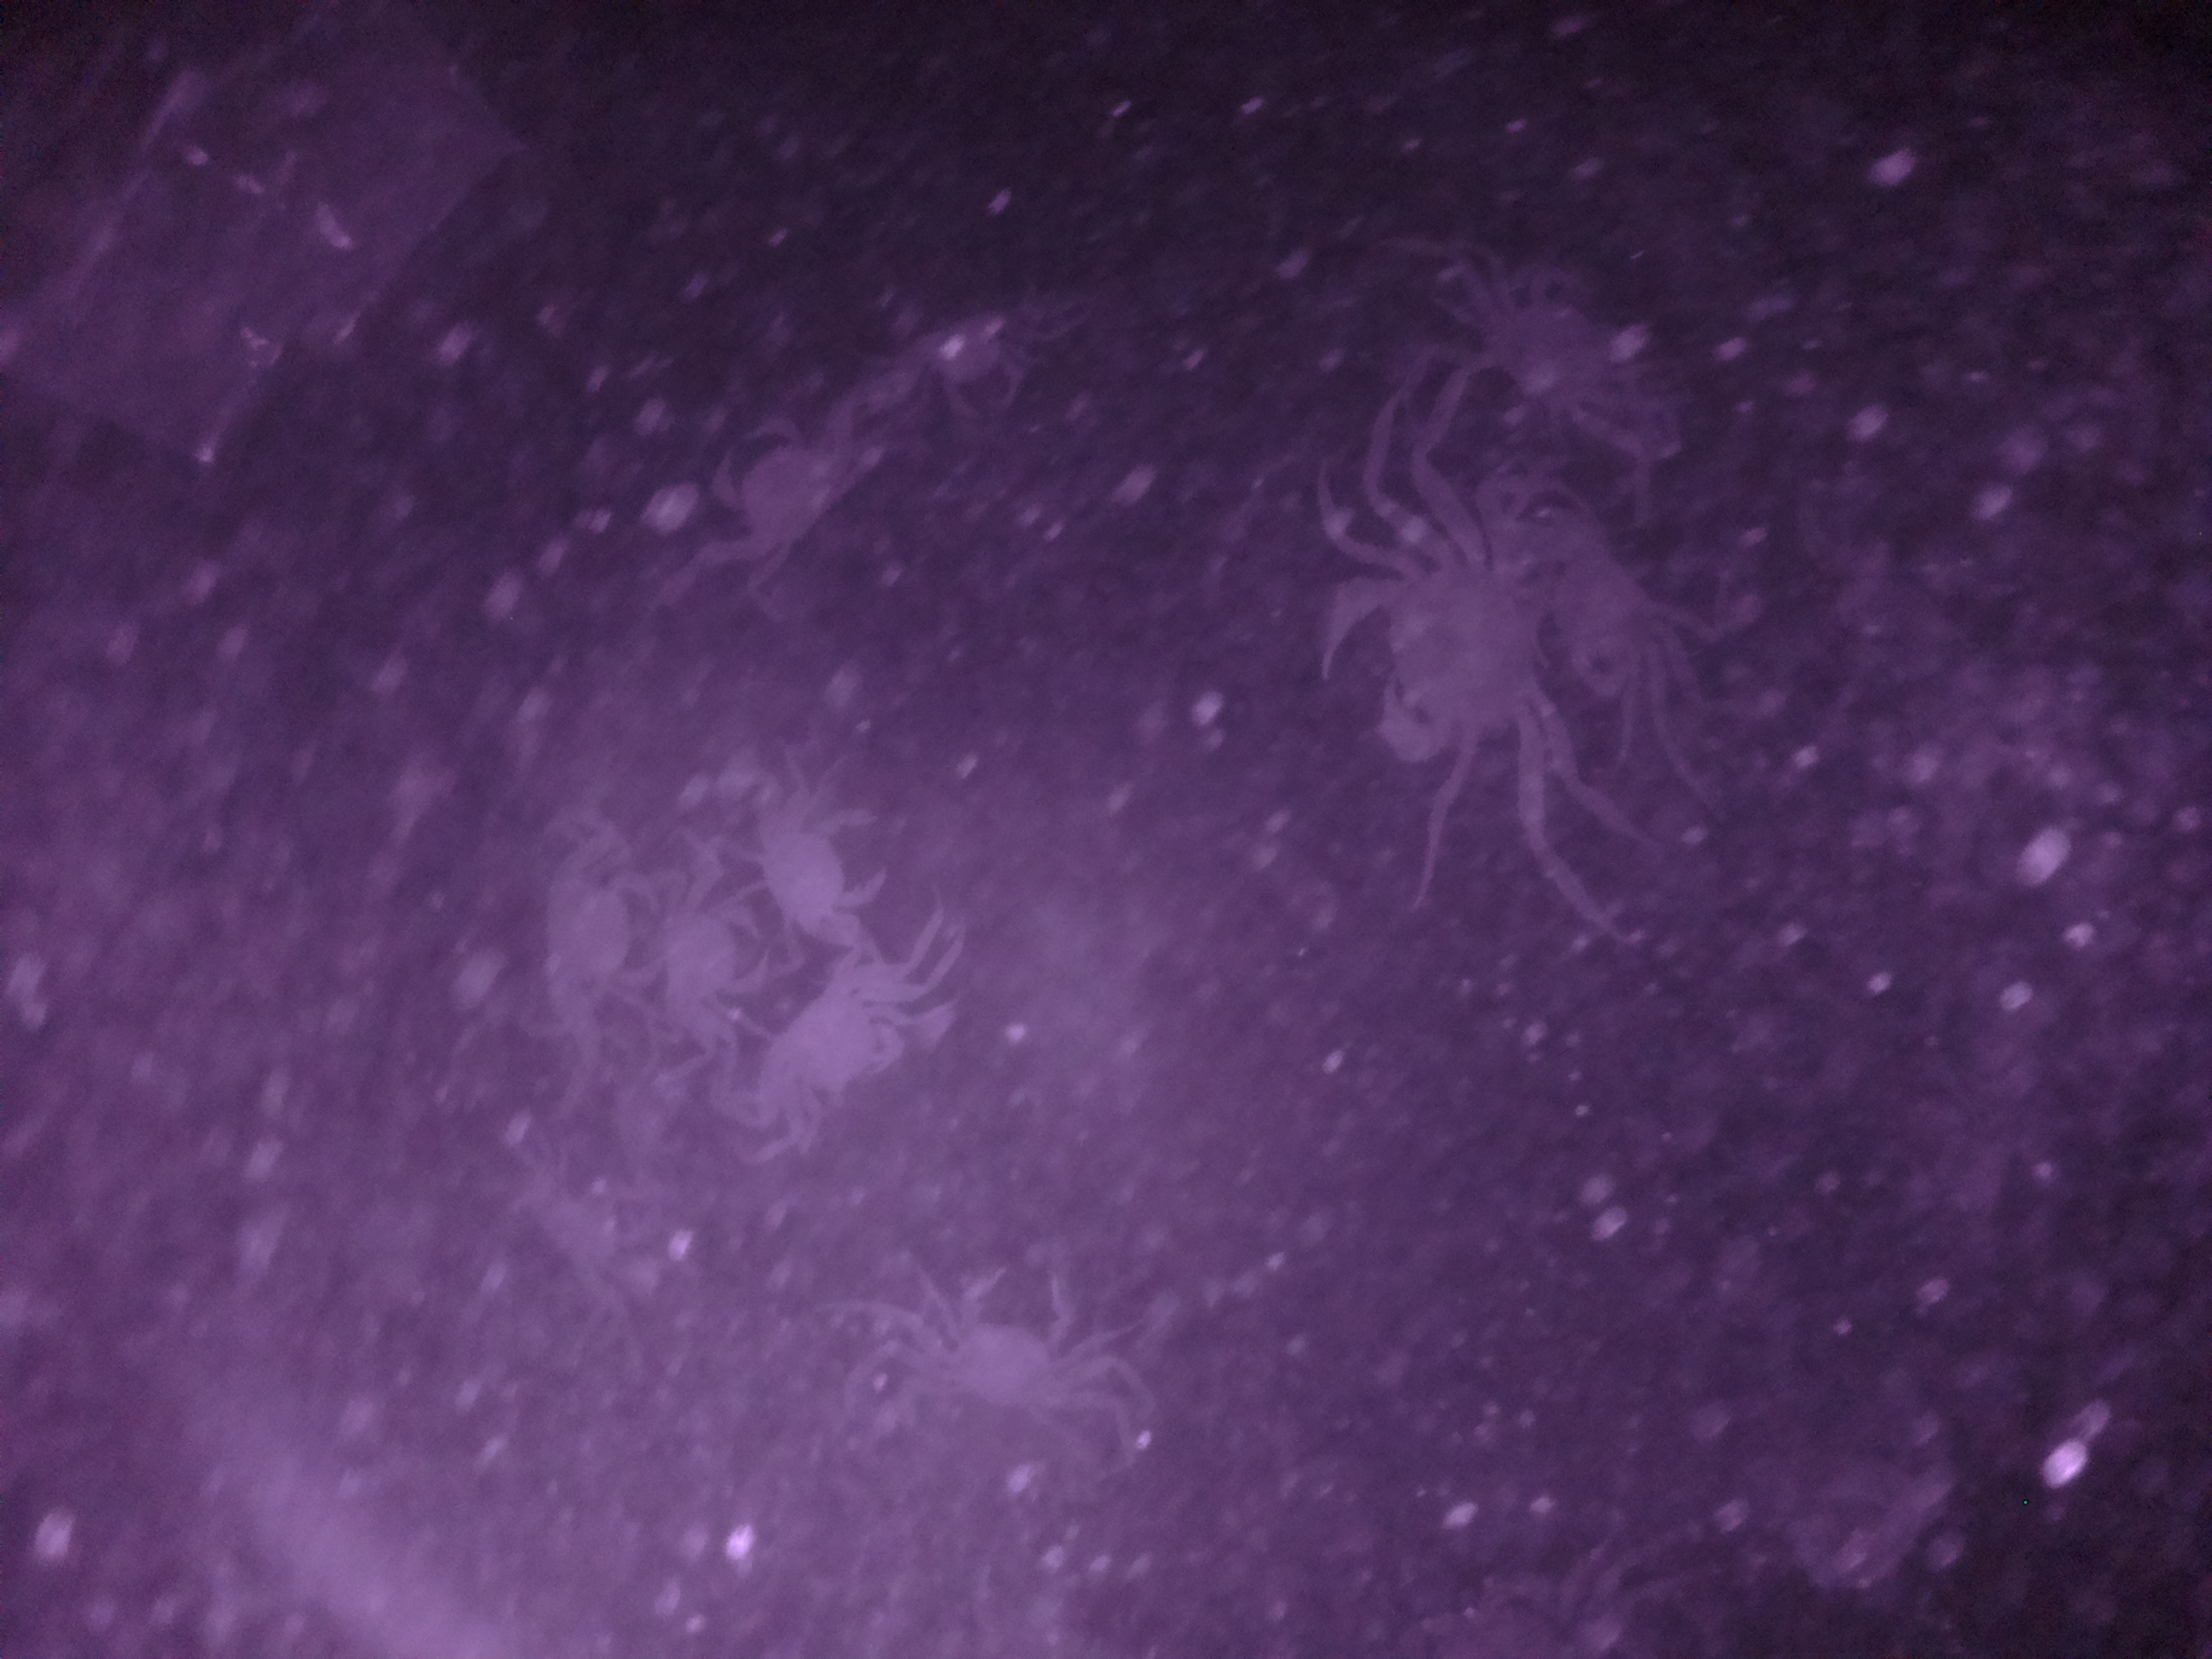Crab: (1310, 509, 1569, 786), (765, 936, 942, 1143), (902, 1251, 1111, 1417), (538, 828, 665, 1021)
